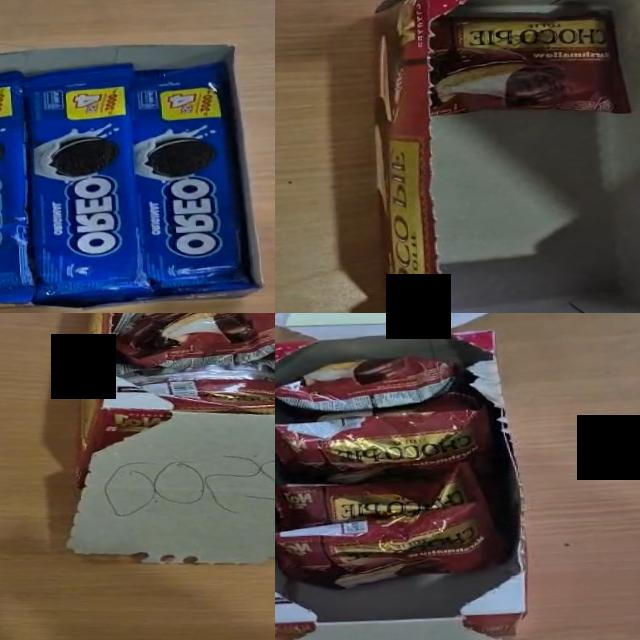Chocopie: (425, 7, 631, 122), (275, 500, 513, 594), (275, 390, 495, 490), (275, 460, 485, 532), (275, 351, 465, 415), (115, 313, 275, 370), (116, 313, 275, 368), (128, 366, 275, 414)
Oreo: (21, 61, 160, 312), (127, 58, 264, 302), (0, 68, 41, 312)
